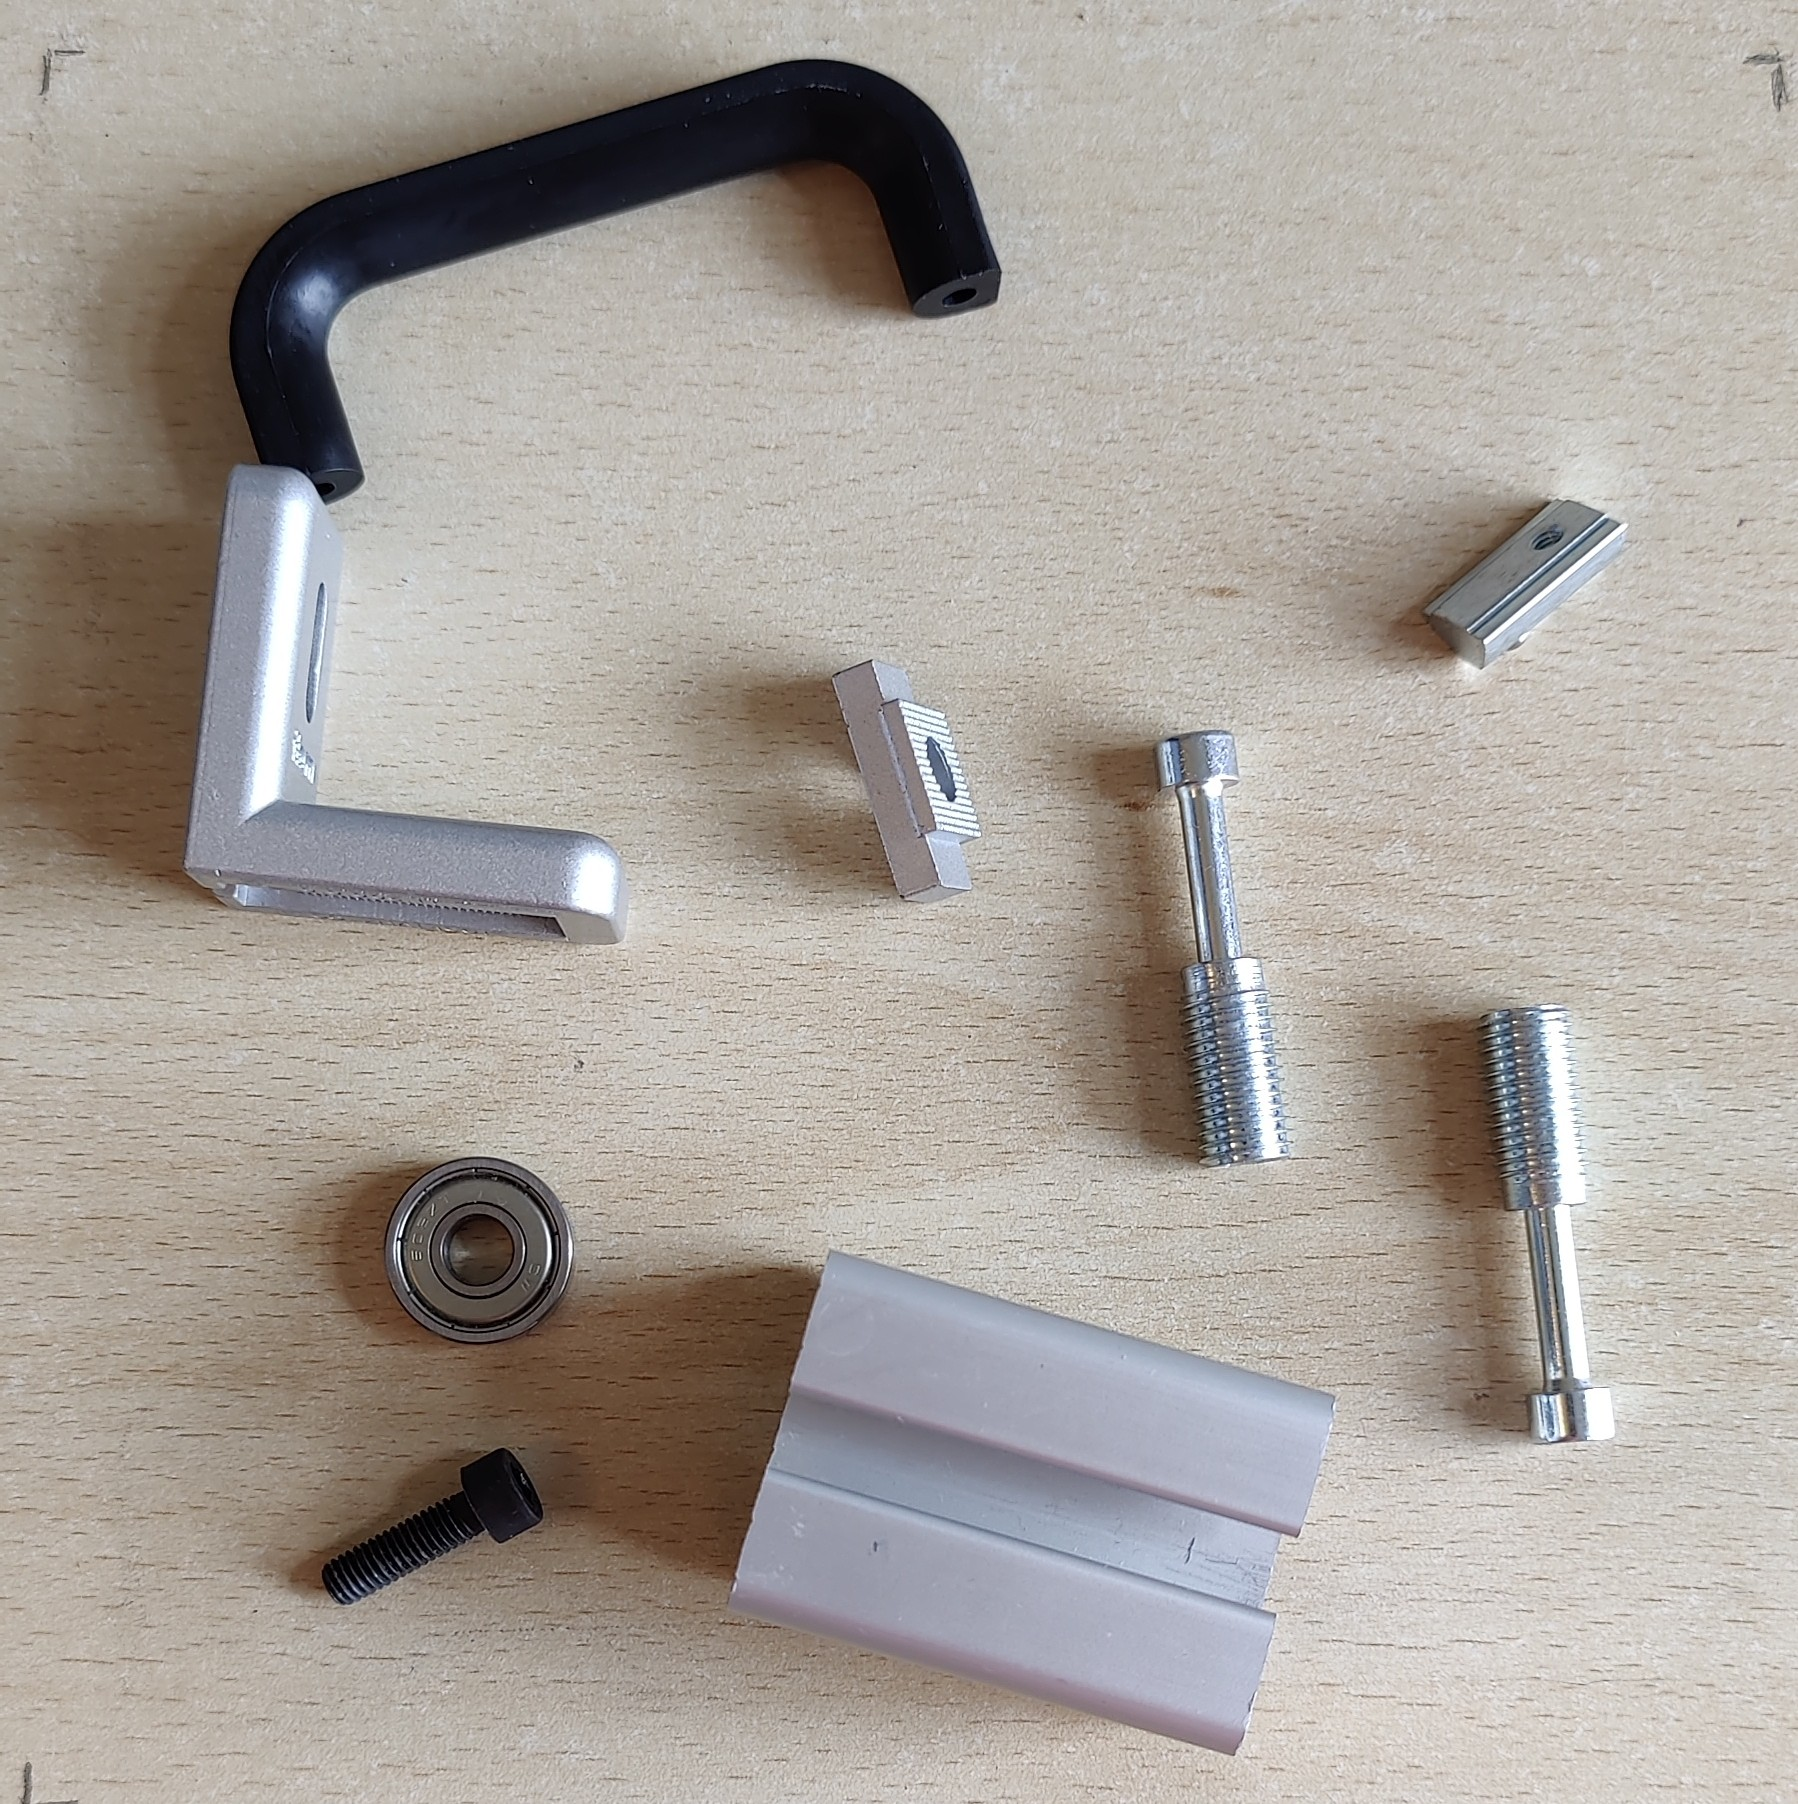Aluminium Extension: (724, 1249, 1337, 1760)
Ball Bearing: (380, 1157, 576, 1348)
Multiwinkel: (181, 459, 631, 946)
Pull Handle: (226, 56, 1003, 507)
Shoulder Socket Head Cap Screw: (1153, 729, 1296, 1170), (1477, 1001, 1619, 1445)
Socket Head Cap Screw: (319, 1445, 547, 1608)
T Nut Square: (827, 657, 985, 907)
T Spring Nut: (1419, 497, 1627, 670)
